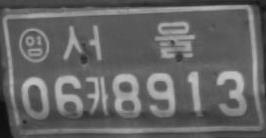0: (20, 75, 50, 121)
1: (180, 71, 210, 117)
3: (216, 69, 247, 118)
6: (54, 74, 84, 120)
8: (112, 72, 141, 120)
9: (145, 71, 176, 119)
서울_D: (62, 21, 194, 62)
영: (18, 26, 49, 63)
카: (85, 75, 108, 117)
